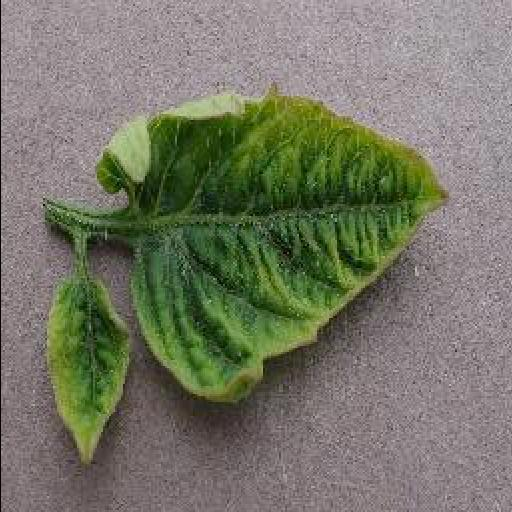disease_tomato: (91, 92, 449, 404), (47, 270, 129, 464)
